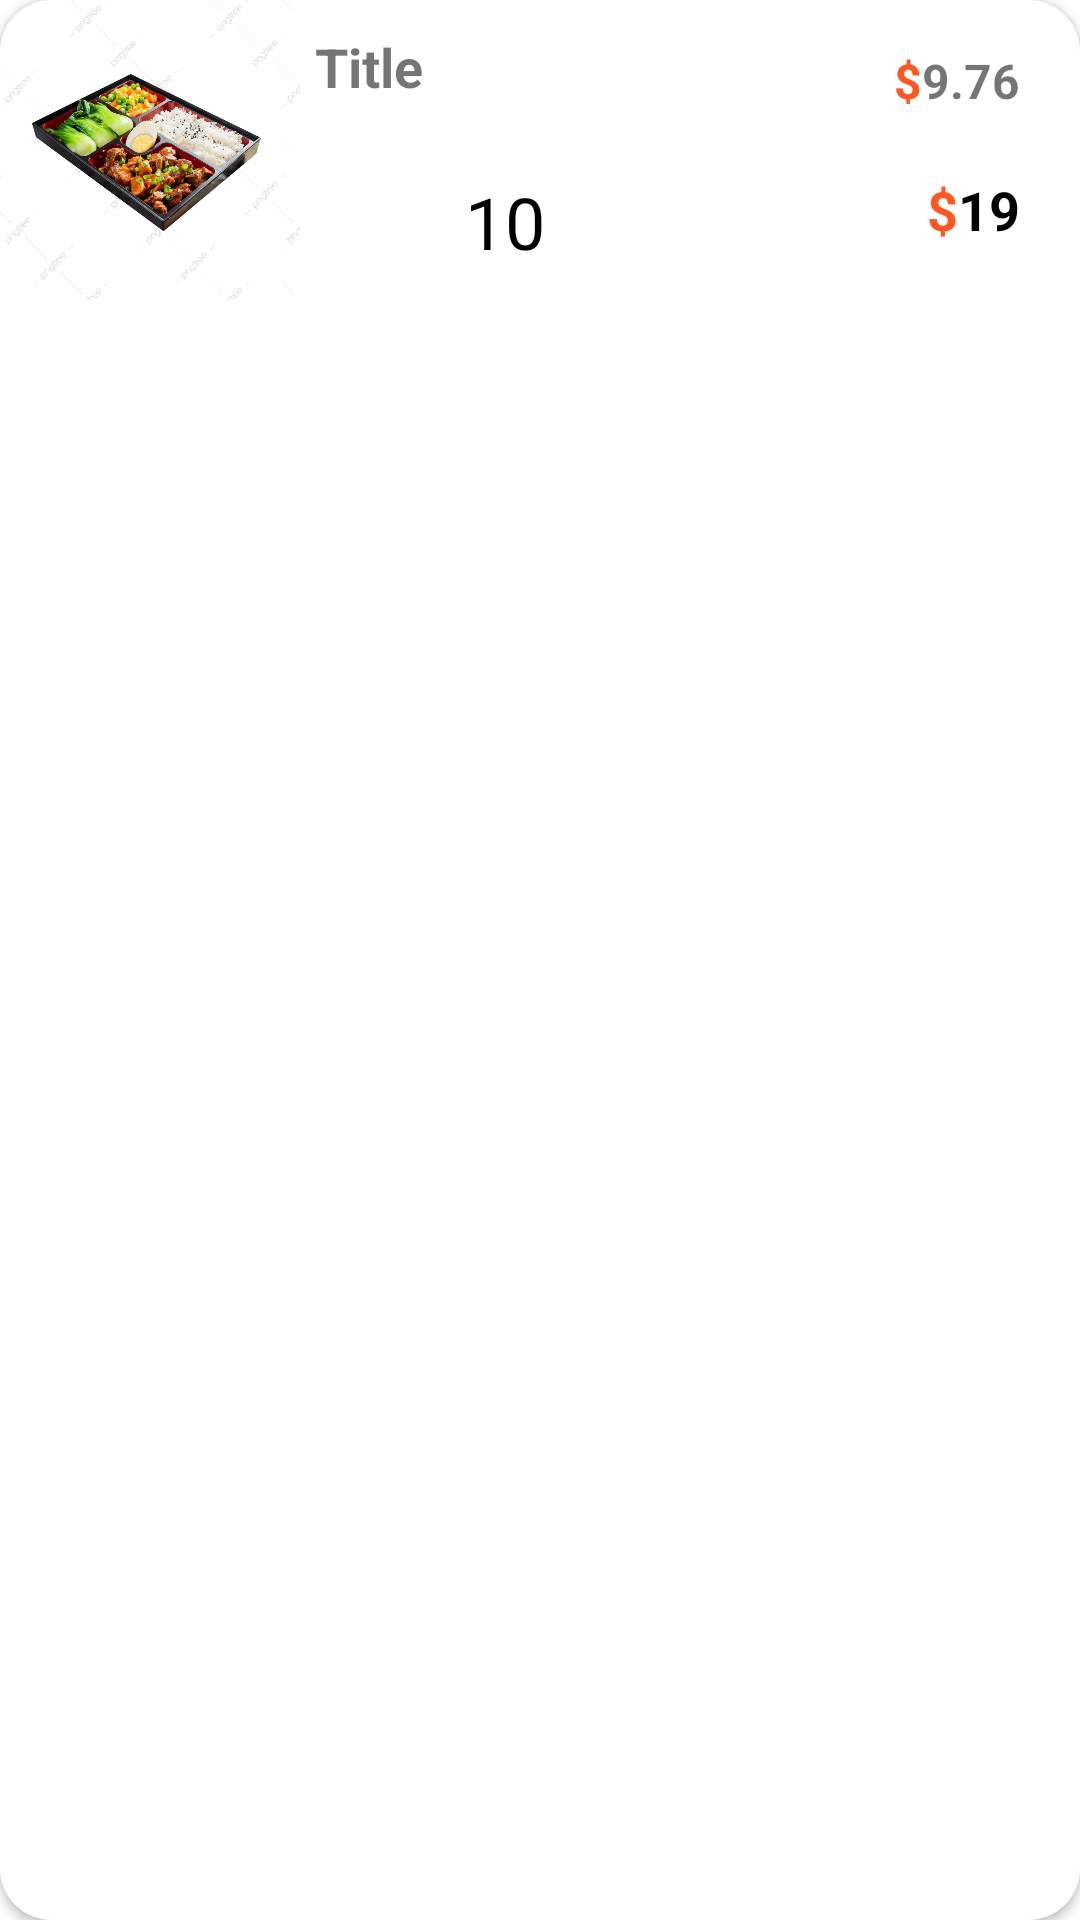

Icon bounding boxes for this 1080px x 1920px phone screenshot, format (x1, y1, x2, y2):
comtam: (0, 0, 300, 300)
